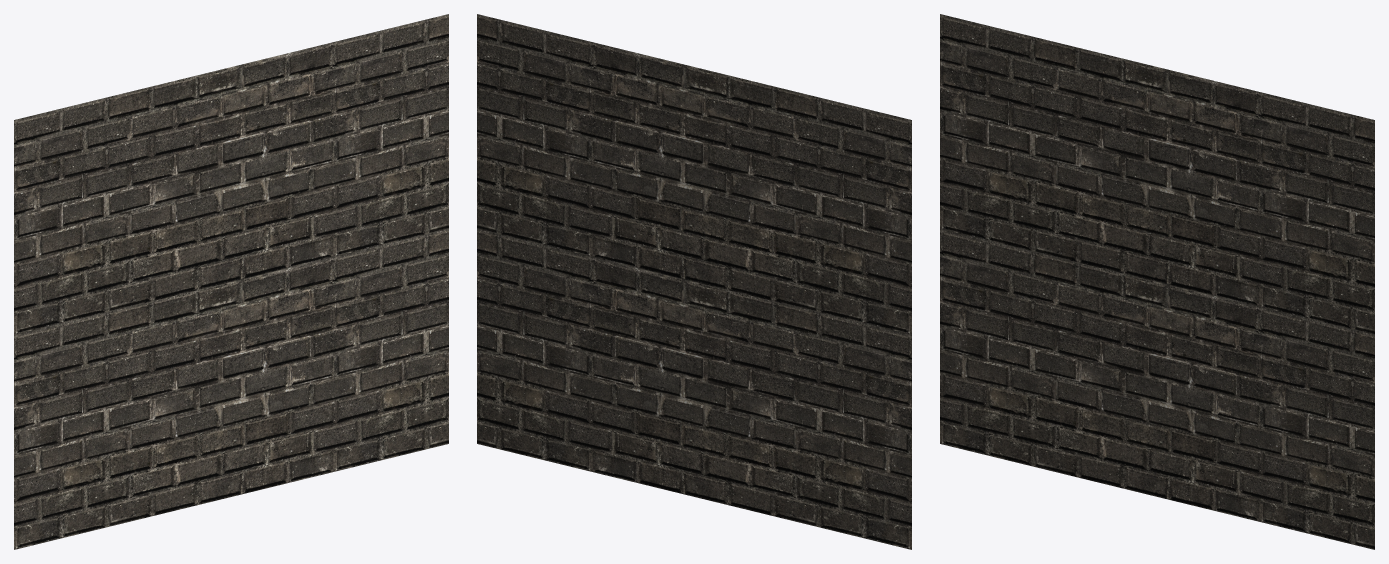
File: WallTile.FBX
3 renders of one model, left to right at view 1: azimuth 30°, elevation 25°; view 2: azimuth 150°, elevation 25°; view 3: azimuth 330°, elevation 25°, orthographic.
Parts seen in each view (by area): view 1: WallTile; view 2: WallTile; view 3: WallTile.
Boxes of the visible parts, left/top/right/bottom form: WallTile: left=14, top=14, right=448, bottom=549; WallTile: left=477, top=14, right=911, bottom=549; WallTile: left=940, top=14, right=1374, bottom=549.
Size of the model in its own units: 400 by 378 by 1.14e-05.
Materials: 1 (1 with a texture image).
